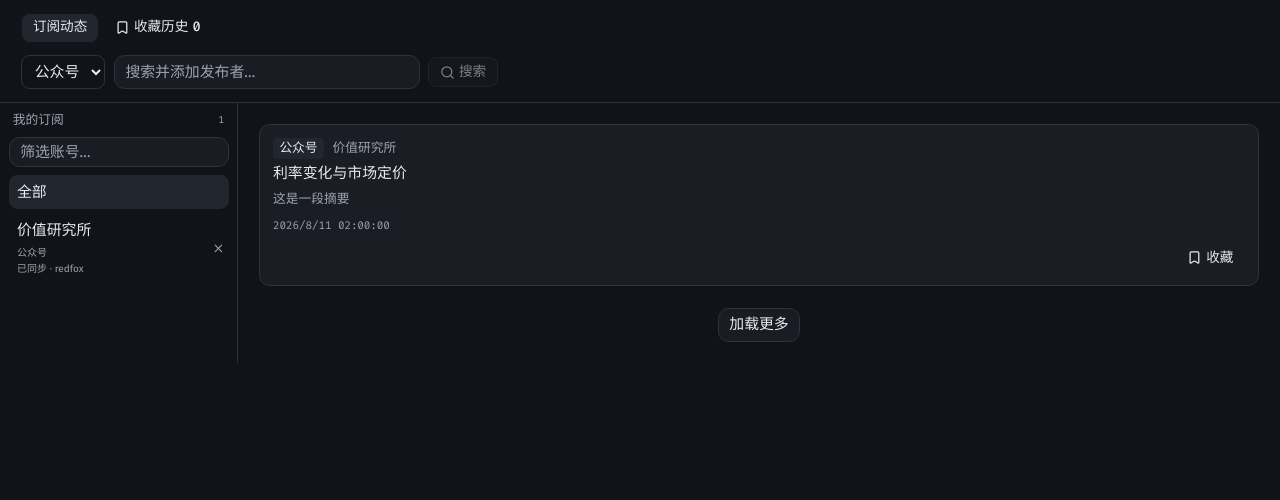
Scenario: SocialPanel 统一订阅动态 › 使用服务端游标加载更多动态
Click the button "加载更多" at (759,325), box [718,308,800,342]
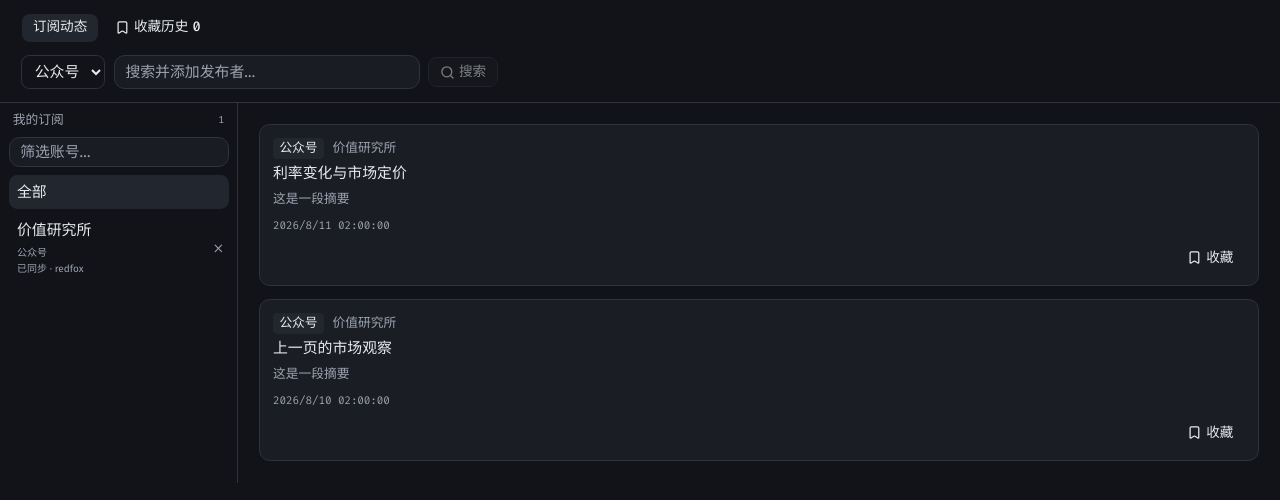
Expected: the heading "上一页的市场观察" is shown, [273,339,392,357]
Expected: the button "加载更多" is gone
